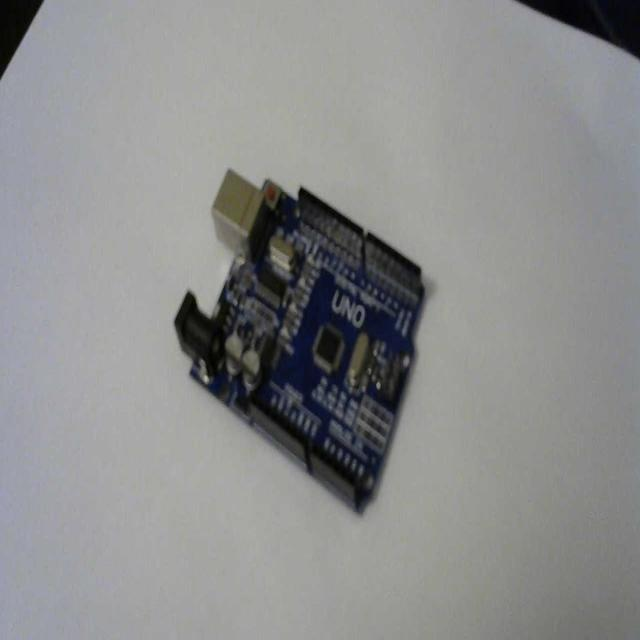arduino: (171, 161, 427, 524)
